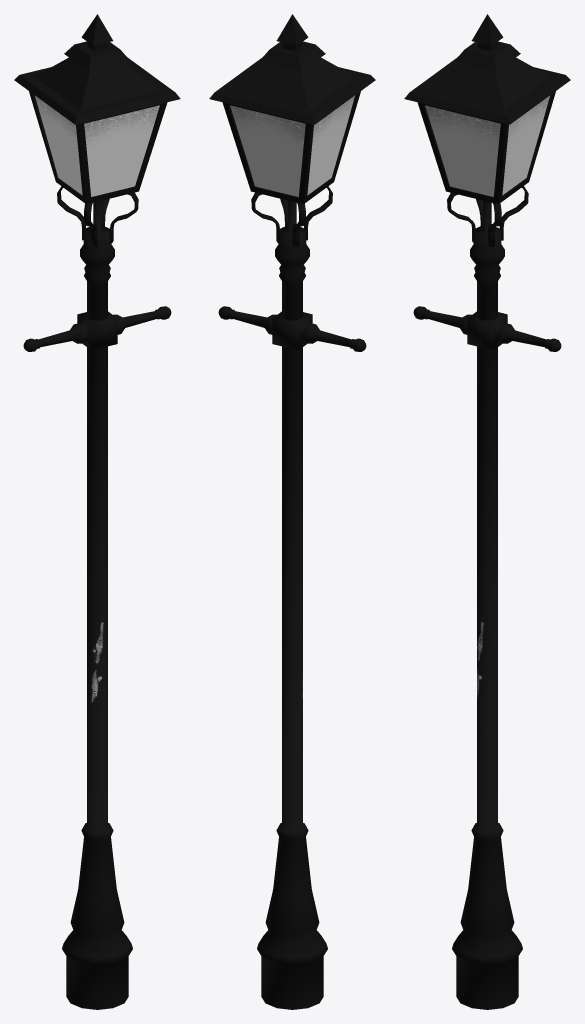
Rendered from poste_01.obj.
3 renders of one model, left to right at view 1: azimuth 30°, elevation 25°; view 2: azimuth 150°, elevation 25°; view 3: azimuth 330°, elevation 25°, orthographic.
Visible parts, largest first — view 1: poste_01; view 2: poste_01; view 3: poste_01.
Boxes of the visible parts, <box> form: poste_01: <box>14,14,180,1009</box>; poste_01: <box>209,14,375,1009</box>; poste_01: <box>404,14,570,1009</box>.
Bounding box in the file's own units: 1.48 × 9.47 × 1.07.
1 material, 1 textured.
